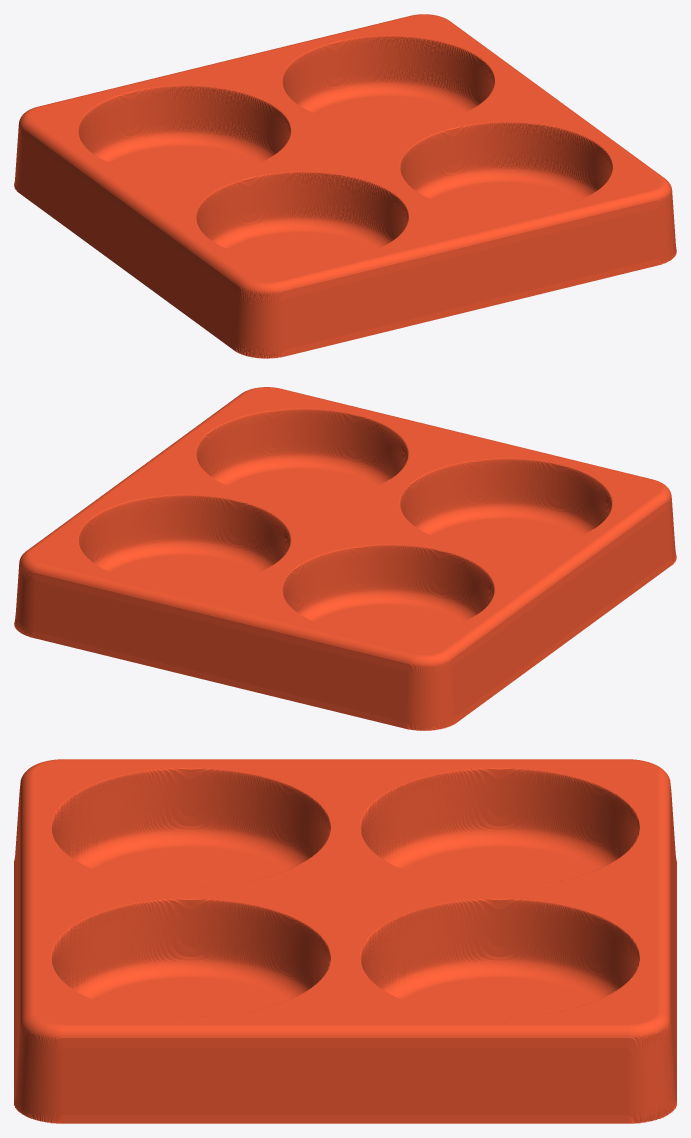
The model's file is mold.glb.
3 renders of one model, top to bottom at view 1: azimuth 30°, elevation 25°; view 2: azimuth 150°, elevation 25°; view 3: azimuth 270°, elevation 25°, orthographic. The views are drawn at different scales.
Parts seen in each view (by area): view 1: geometry_0; view 2: geometry_0; view 3: geometry_0.
Boxes of the visible parts, x1,y1,x2,y2 form: geometry_0: (14, 14, 676, 358); geometry_0: (14, 387, 676, 730); geometry_0: (14, 759, 676, 1123).
Bounding box in the file's own units: 0.1218 × 0.0185 × 0.1218.
